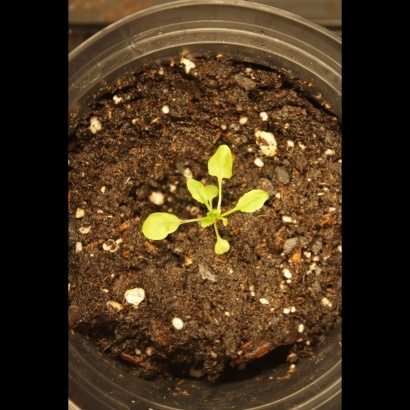leaf: (135, 206, 183, 245), (202, 140, 244, 180), (201, 233, 246, 265), (233, 186, 280, 216), (176, 174, 214, 205), (200, 179, 223, 202), (199, 210, 222, 233)
